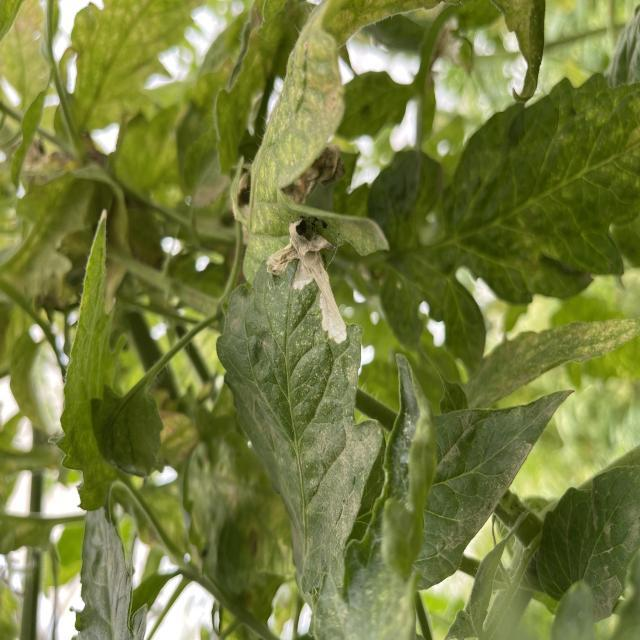Tuta absoluta: (254, 213, 385, 347)
